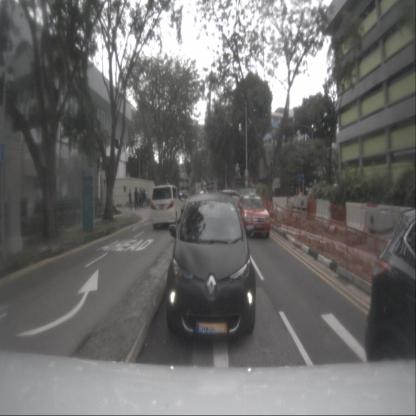barrier: (390, 206, 416, 243), (344, 200, 367, 234), (377, 202, 395, 242), (330, 203, 346, 232), (316, 199, 332, 226), (293, 194, 308, 222), (272, 196, 288, 219), (306, 198, 317, 222), (287, 197, 295, 217)
